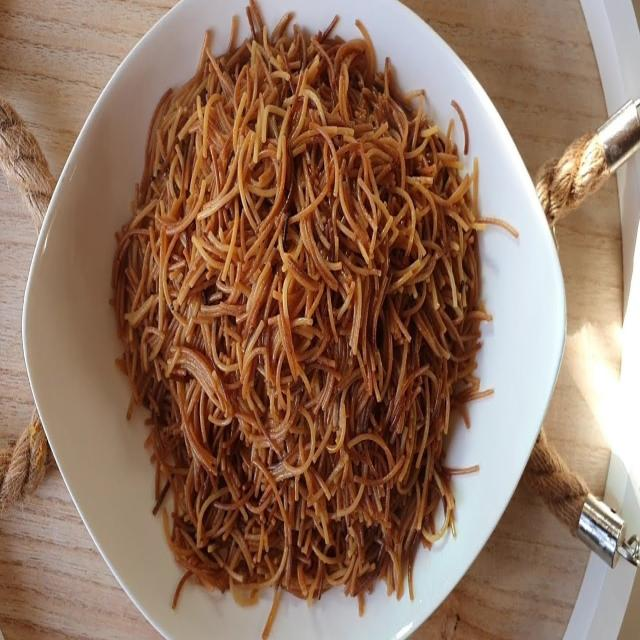Balaleet: (148, 31, 458, 573)
